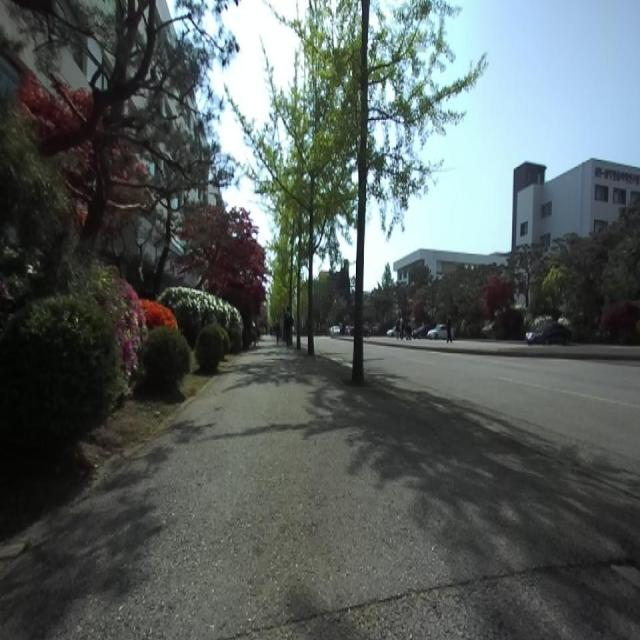sidewalk: (0, 341, 640, 639)
